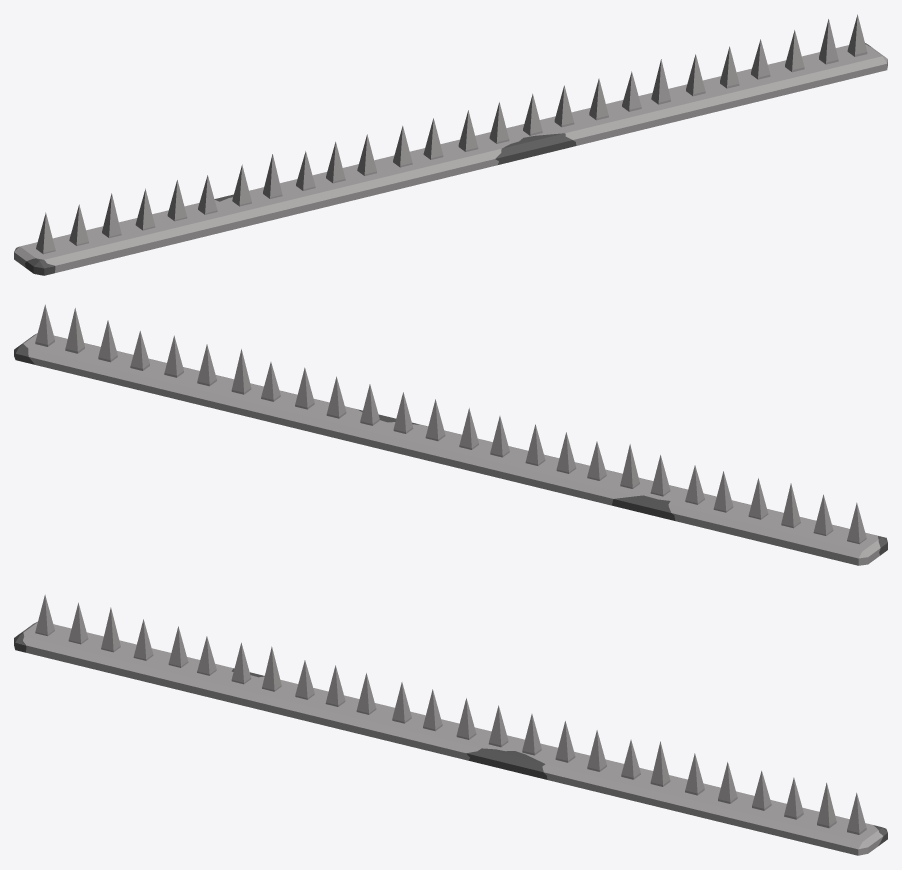
The model's file is LGEMetalSpikeTrap.fbx.
3 renders of one model, top to bottom at view 1: azimuth 30°, elevation 25°; view 2: azimuth 150°, elevation 25°; view 3: azimuth 330°, elevation 25°, orthographic.
Visible parts, largest first — view 1: LGEMetalSpikeTrap; view 2: LGEMetalSpikeTrap; view 3: LGEMetalSpikeTrap.
Boxes of the visible parts, x1,y1,x2,y2 form: LGEMetalSpikeTrap: [14, 14, 887, 275]; LGEMetalSpikeTrap: [14, 304, 887, 565]; LGEMetalSpikeTrap: [14, 594, 887, 855].
Size of the model in its own units: 264 by 15.63 by 15.07.
